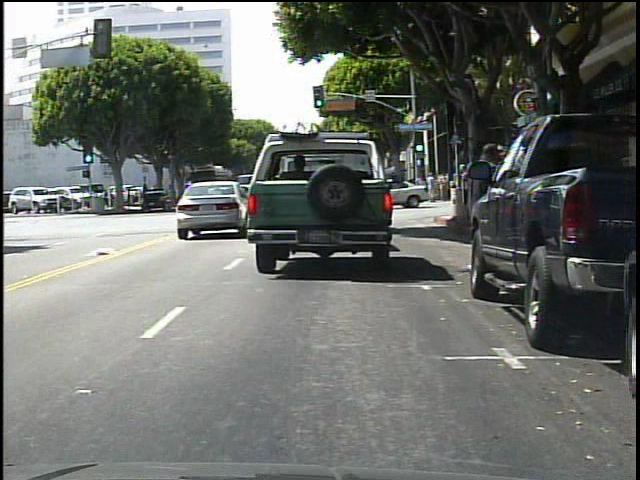person: (459, 142, 510, 278), (426, 170, 436, 187)
